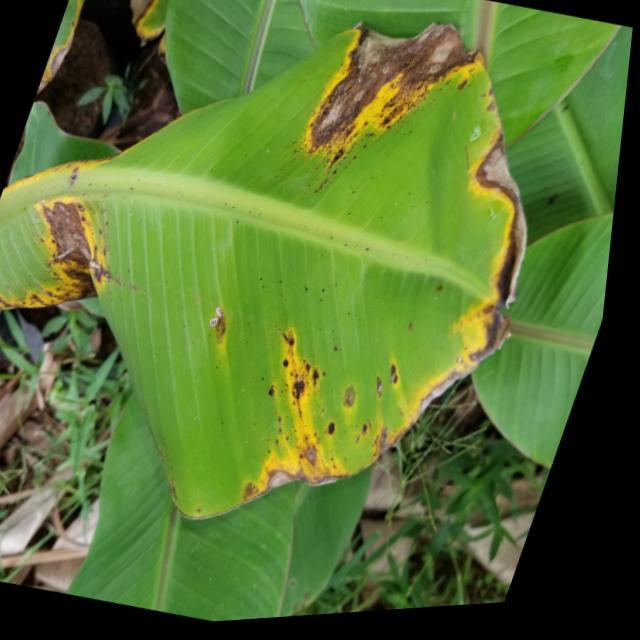Early_rust: (220, 0, 534, 506), (0, 134, 145, 360), (41, 0, 198, 85)
